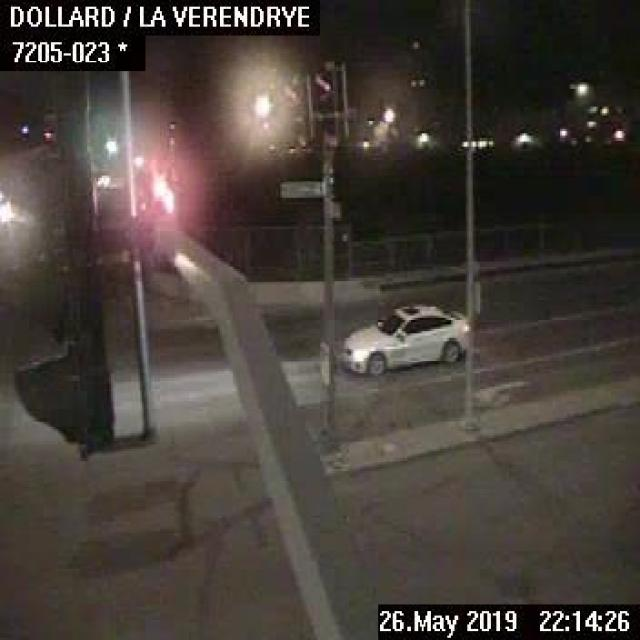vehicle: (336, 298, 466, 376)
